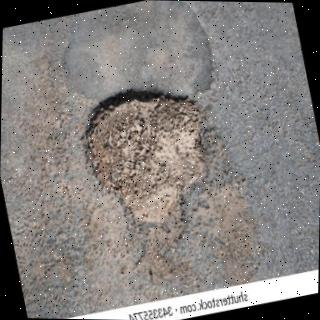pothole: (84, 89, 205, 224)
